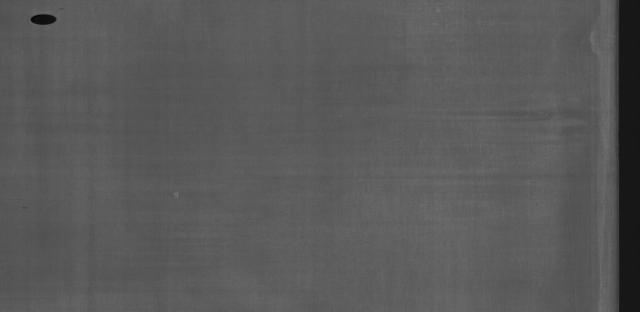punching_hole: (24, 8, 66, 30)
